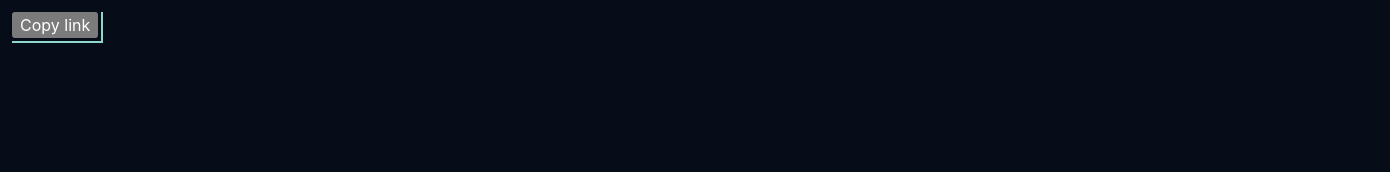
Test: offers a labeled read-only selectable fallback when clipboard is denied without stealing focus
Click the button "Copy link": (55, 25) x1=12 y1=12 x2=98 y2=38
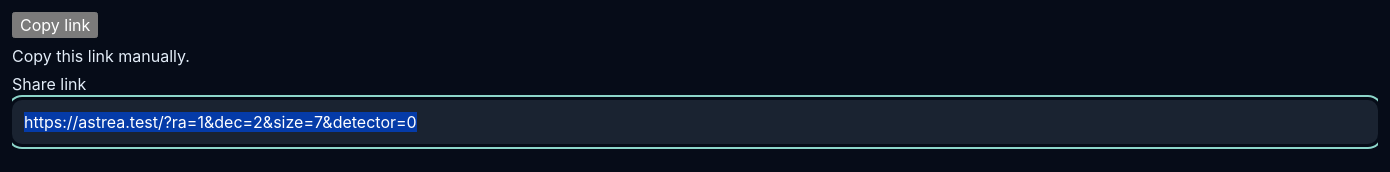
Check: the field labelled "Share link" holds "https://astrea.test/?ra=1&dec=2&size=7&detector=0", box x1=12 y1=100 x2=1378 y2=144
Check: the message reads "Copy this link manually.", box x1=12 y1=46 x2=190 y2=66
